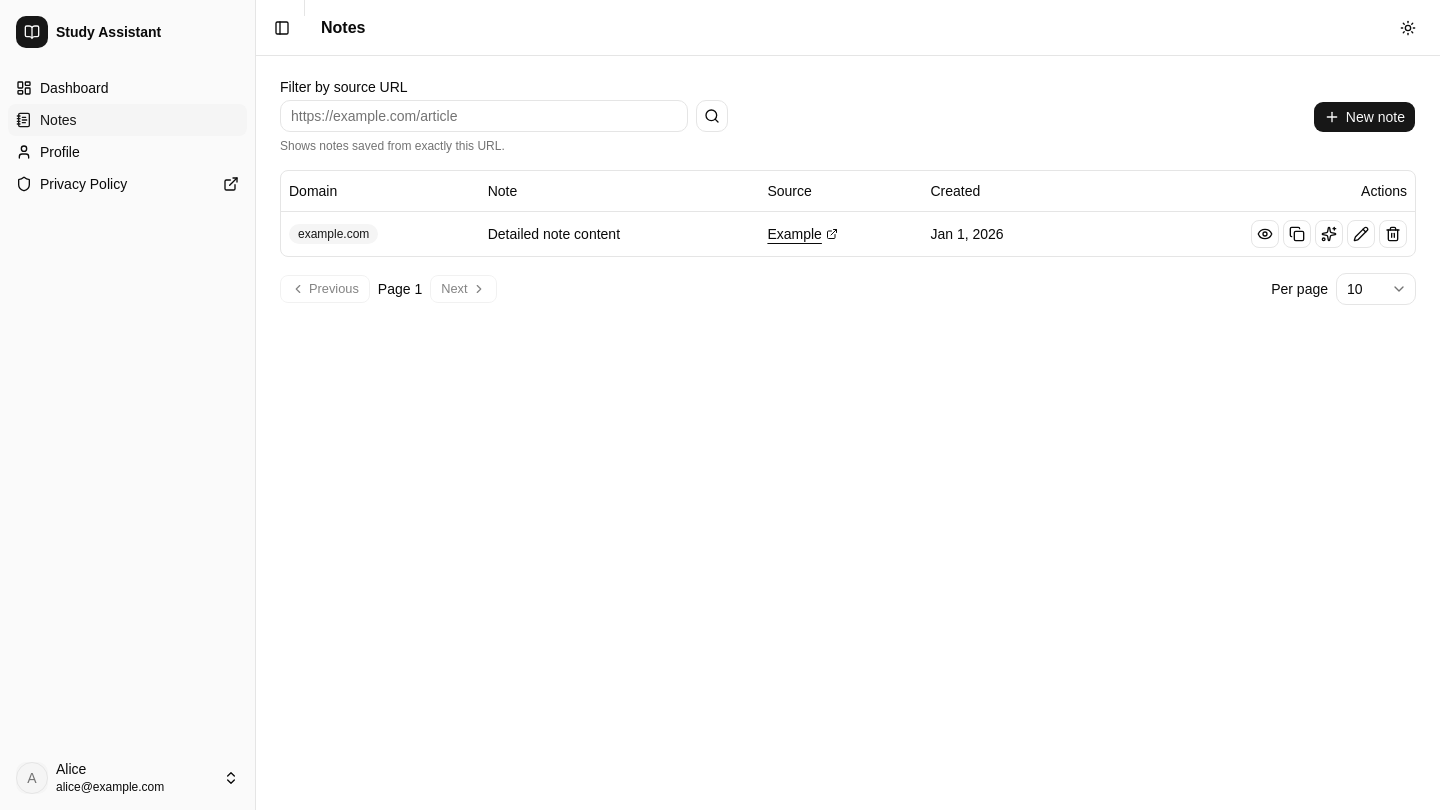
Test: notes page › opens the details dialog and summarizes there
The image size is (1440, 810).
Click the button named "View note" at (1265, 234), box [1251,220,1279,248]
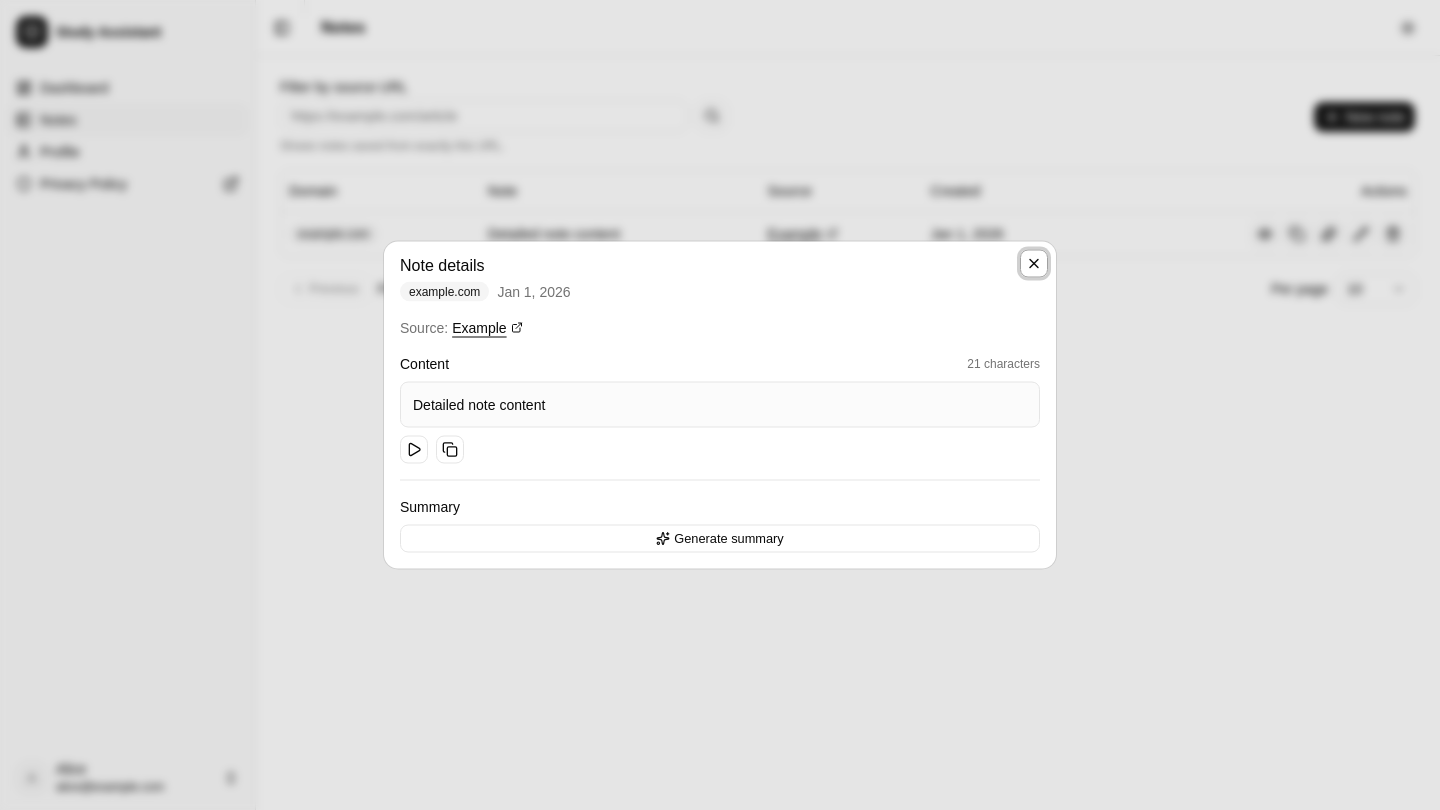
expect the text "Detailed note content" is shown: met, box [400,382,1040,428]
Click the button "Generate summary" at (720, 538), box [400,524,1040,552]
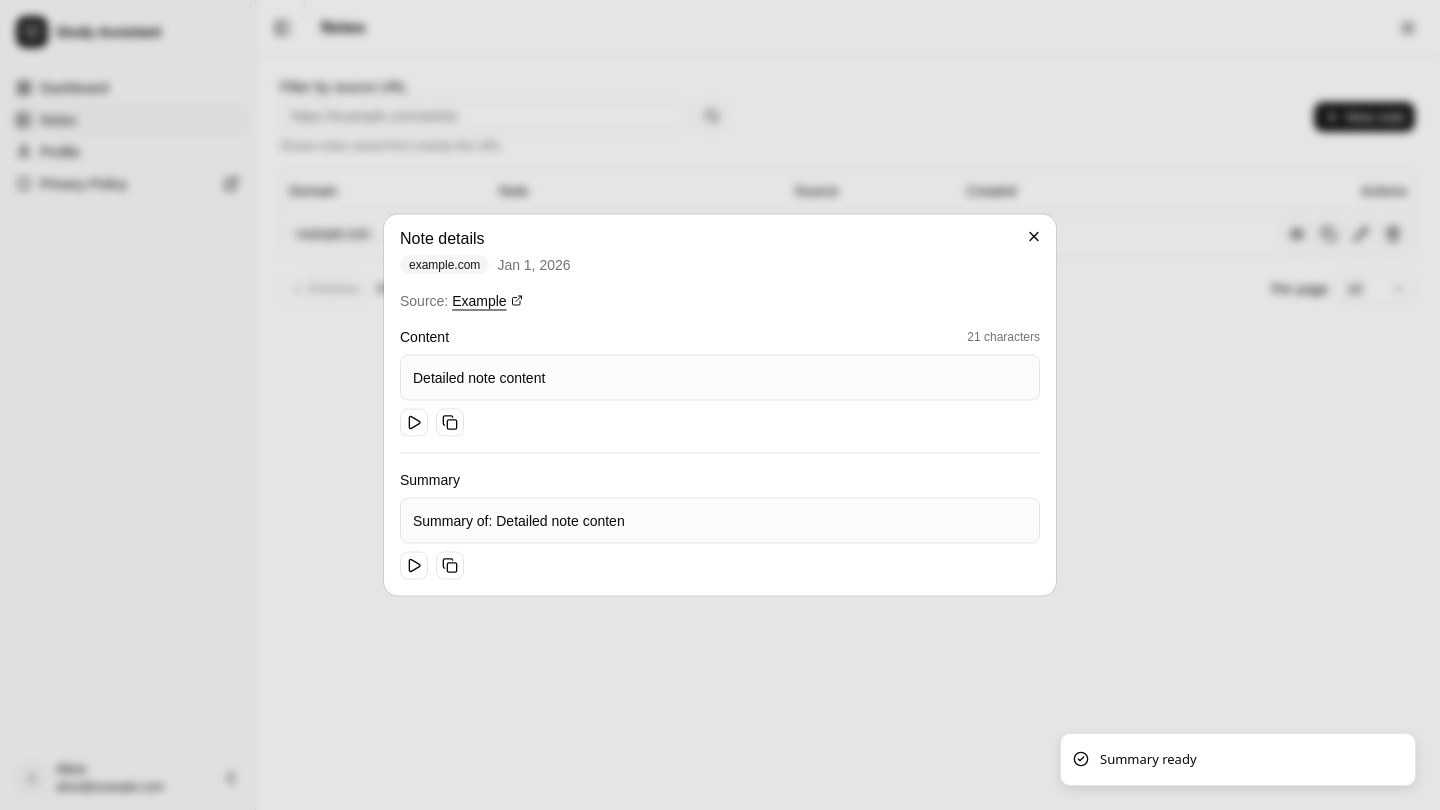
expect the text "Summary of: Detailed note conten" is shown: met, box [400,498,1040,544]
Press Escape
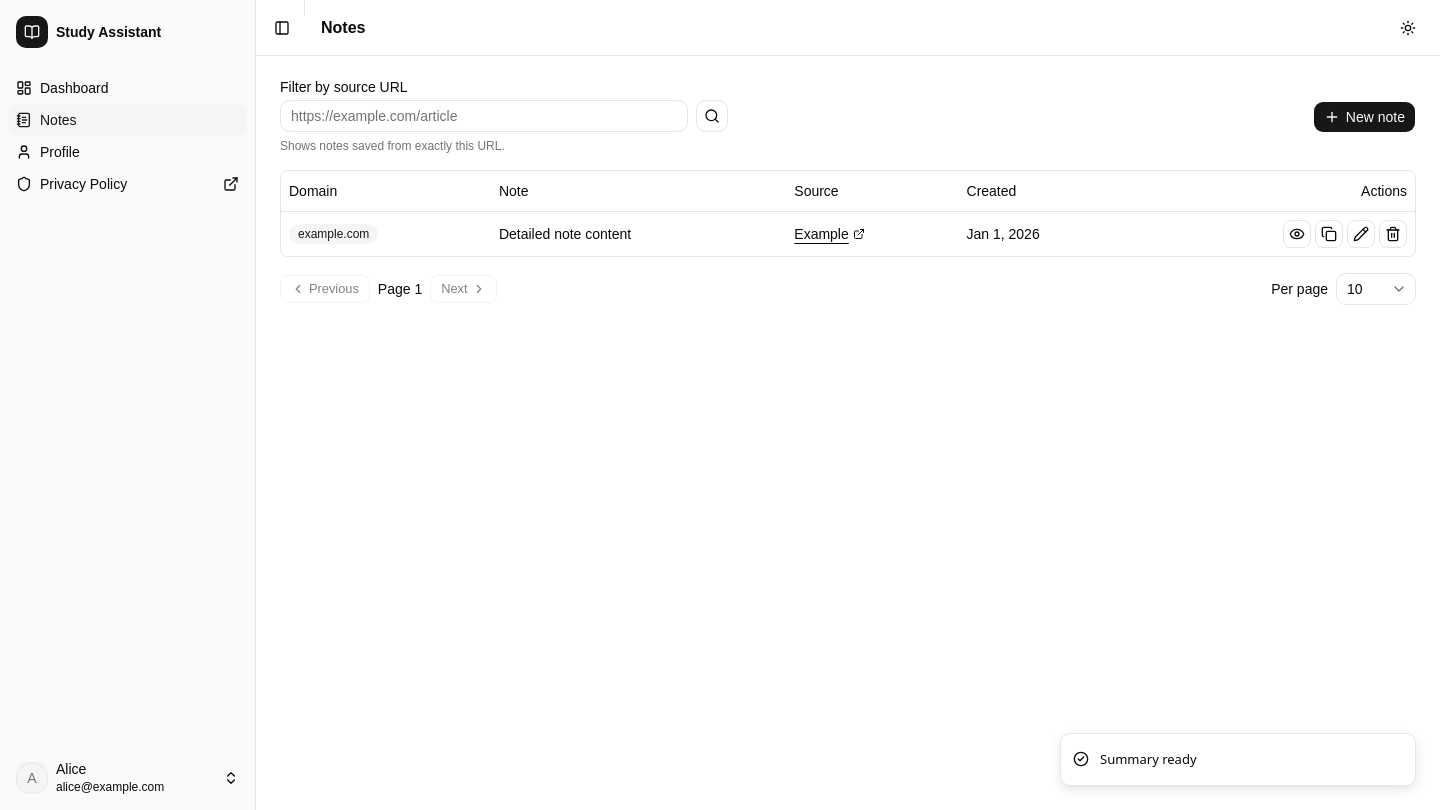
expect the dialog is gone: met
